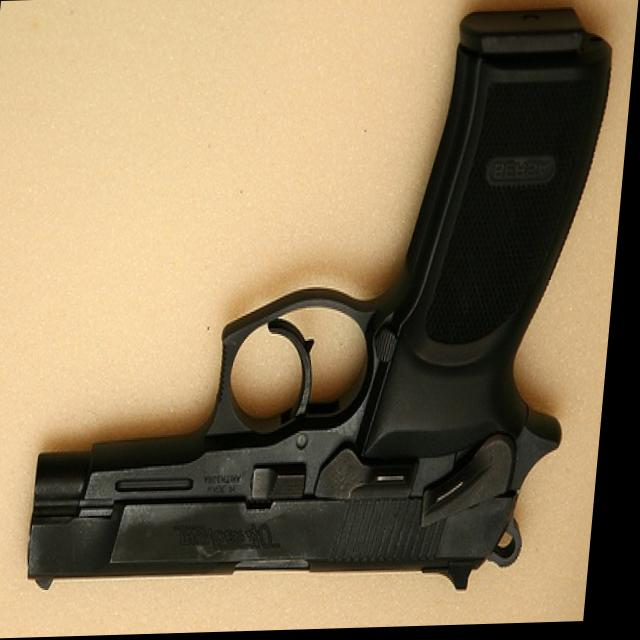handgun: (33, 7, 619, 606)
